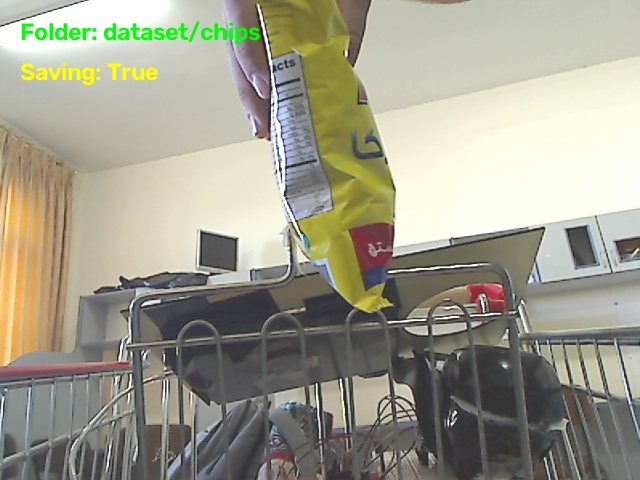chips: (258, 0, 394, 312)
